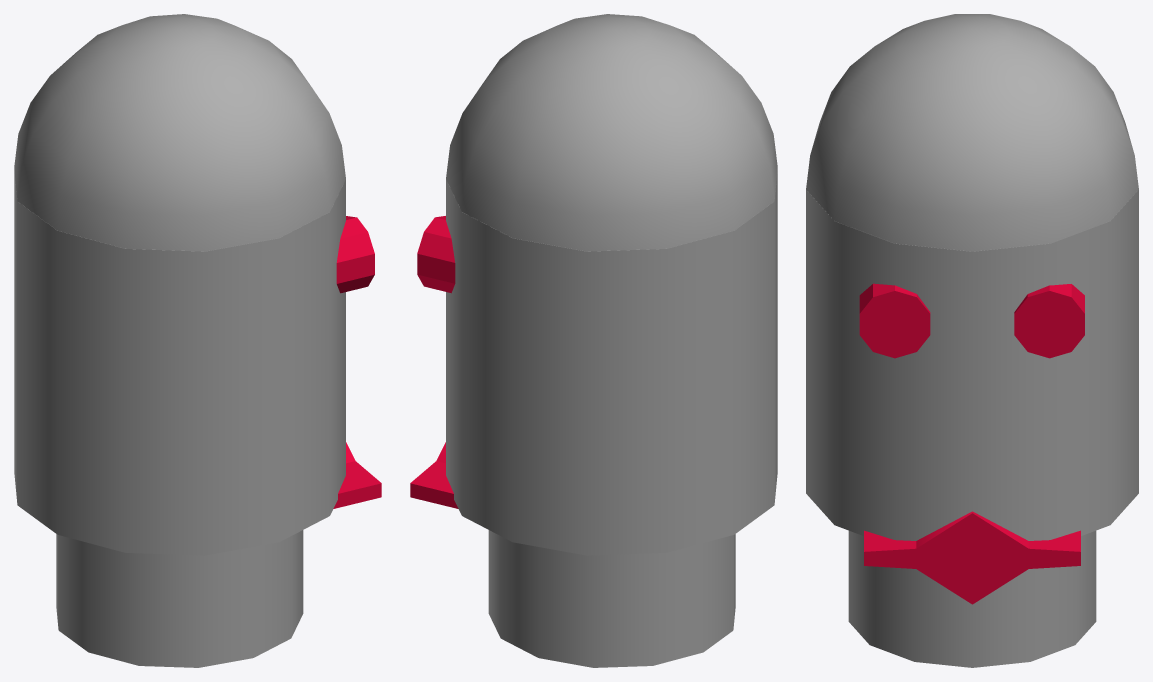
File: robot_001_head_001.fbx
The picture shows the model from 3 angles, left to right: view 1: azimuth 30°, elevation 25°; view 2: azimuth 150°, elevation 25°; view 3: azimuth 270°, elevation 25°; orthographic projection.
Parts seen in each view (by area): view 1: robot_001_head_001; view 2: robot_001_head_001; view 3: robot_001_head_001.
Boxes of the visible parts, x1,y1,x2,y2 form: robot_001_head_001: (14,14,381,667); robot_001_head_001: (410,14,777,667); robot_001_head_001: (806,14,1138,667).
Size of the model in its own units: 0.2895 by 0.5594 by 0.2879.
